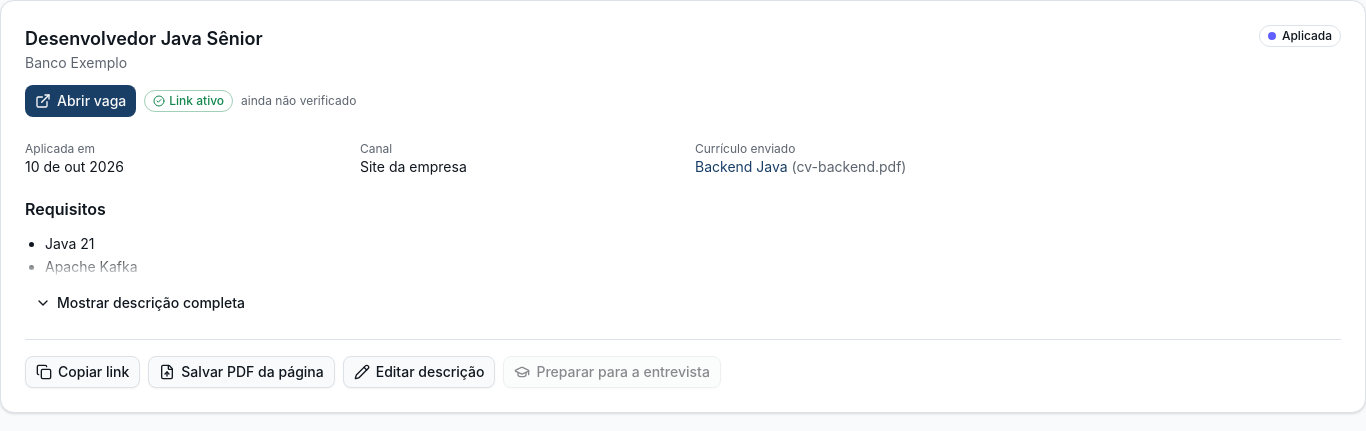
Test case: AppliedJobCard › mostra o link da vaga, o currículo enviado e a descrição salva
expect the text "Link ativo" is shown: met, box [144, 90, 233, 112]
expect the button "Backend Java (cv-backend.pdf)" is shown: met, box [695, 157, 906, 177]
Click the button "Mostrar descrição completa": (140, 302) [25, 286, 255, 318]
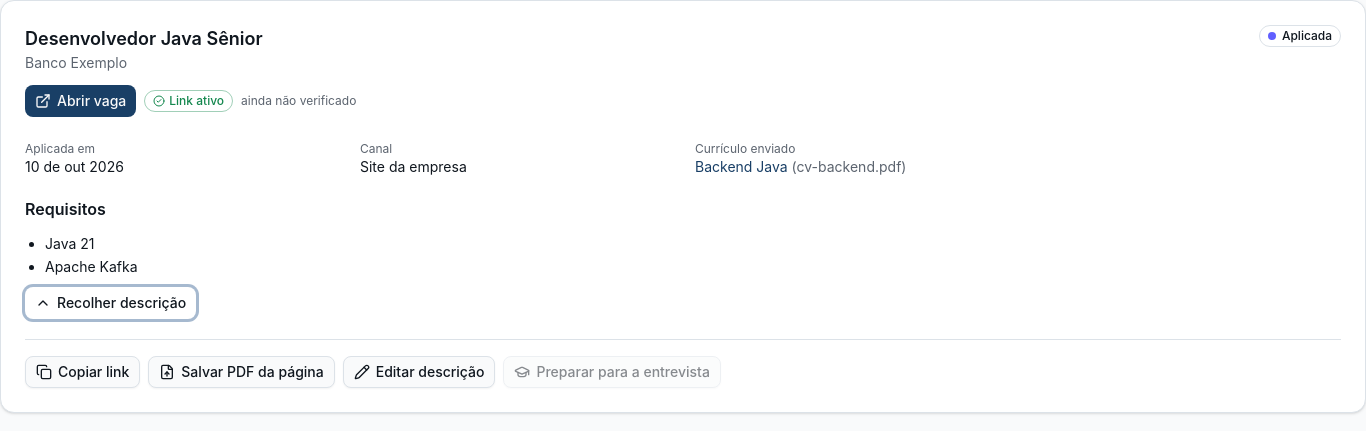
expect the button "Recolher descrição" is shown: met, box [25, 286, 196, 318]
